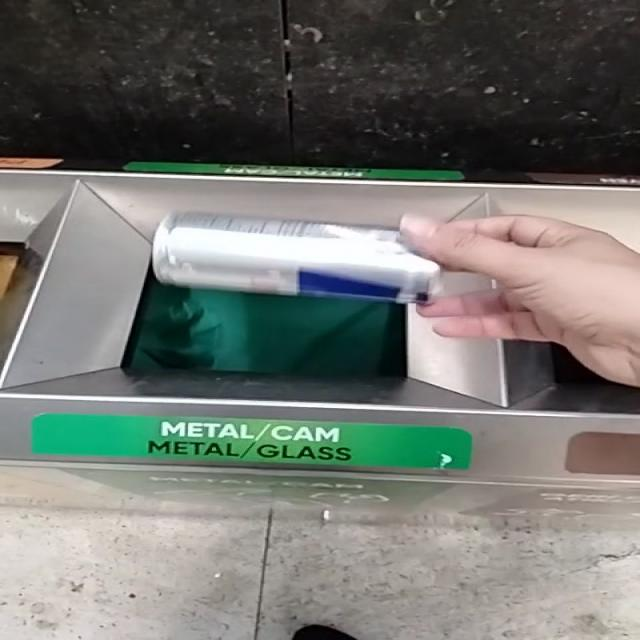bin: (1, 171, 640, 479)
metal: (152, 212, 441, 303)
